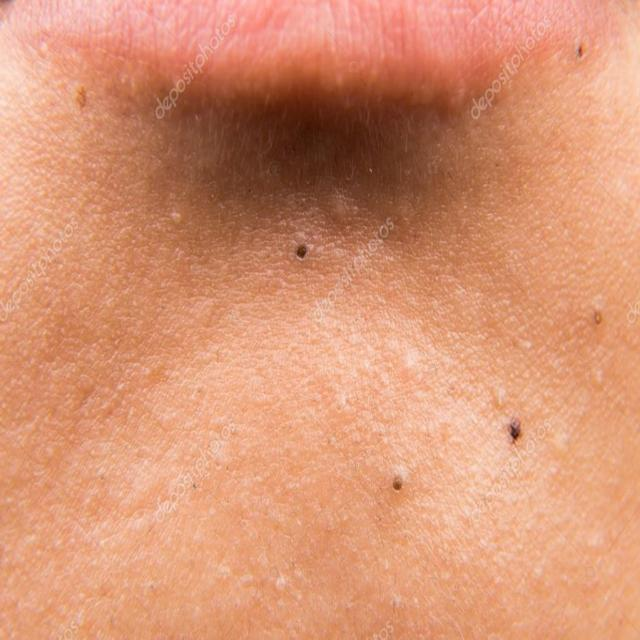dark spot: (280, 230, 318, 285), (502, 416, 528, 454), (388, 465, 411, 497)
